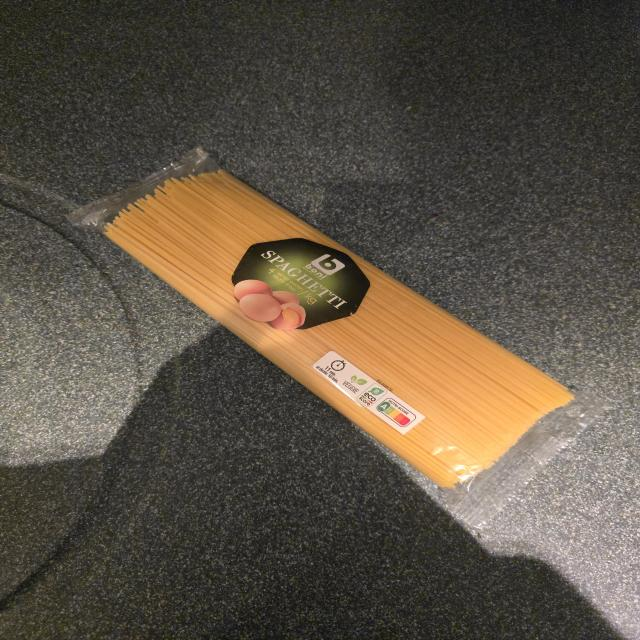Pasta: (75, 147, 602, 526)
